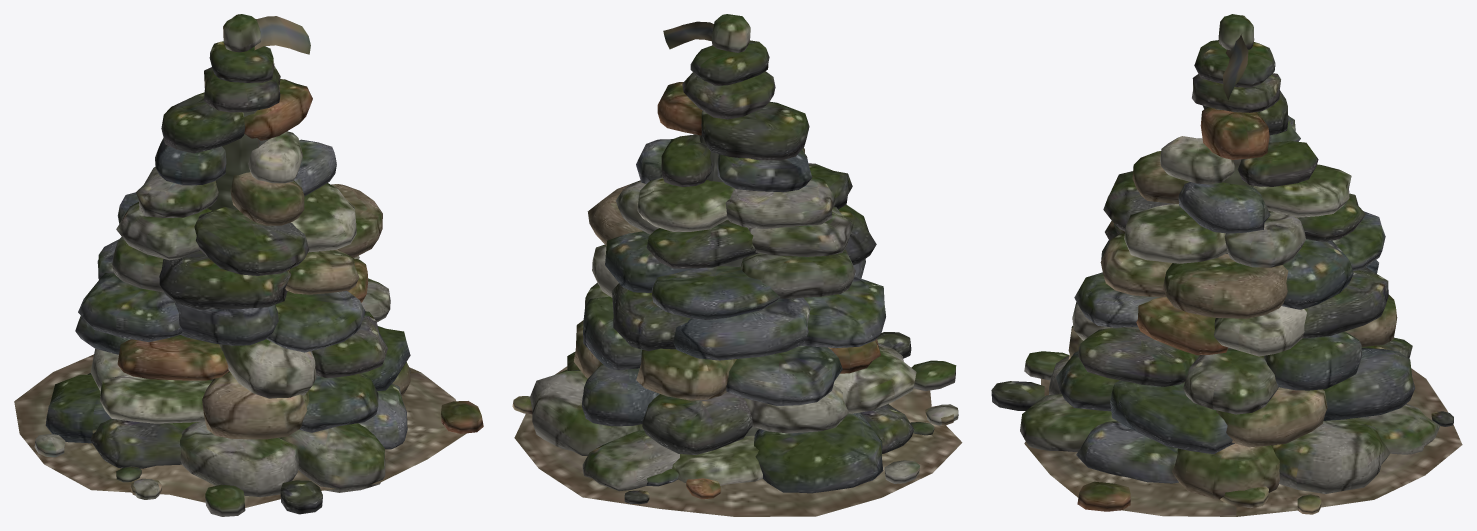
File: kit_cairn_hero.glb
3 views of the same model, side by side, from view 1: azimuth 30°, elevation 25°; view 2: azimuth 150°, elevation 25°; view 3: azimuth 270°, elevation 25° (orthographic). The views are drawn at different scales.
Visible parts, largest first — view 1: body, stone_02, stone_03, stone_01, rag, stone_cap; view 2: body, stone_02, stone_03, stone_01, stone_cap, rag; view 3: body, stone_01, stone_03, stone_cap, rag, stone_02.
Part boxes in pixels (left/top/right/bottom): body: left=14, top=41, right=483, bottom=516; stone_02: left=161, top=92, right=245, bottom=153; stone_03: left=203, top=67, right=280, bottom=112; stone_01: left=244, top=79, right=312, bottom=140; rag: left=254, top=16, right=310, bottom=54; stone_cap: left=223, top=14, right=260, bottom=52; body: left=512, top=40, right=962, bottom=516; stone_02: left=701, top=101, right=809, bottom=160; stone_03: left=682, top=71, right=775, bottom=119; stone_01: left=657, top=82, right=702, bottom=135; stone_cap: left=711, top=14, right=750, bottom=52; rag: left=663, top=21, right=713, bottom=49; body: left=991, top=40, right=1462, bottom=516; stone_01: left=1200, top=107, right=1269, bottom=159; stone_03: left=1192, top=73, right=1280, bottom=112; stone_cap: left=1218, top=14, right=1254, bottom=50; rag: left=1223, top=34, right=1248, bottom=100; stone_02: left=1203, top=90, right=1288, bottom=135.
Size of what is drawn, in the model's own units: 2.27 by 2.35 by 2.39.
2 materials, 2 textured.
